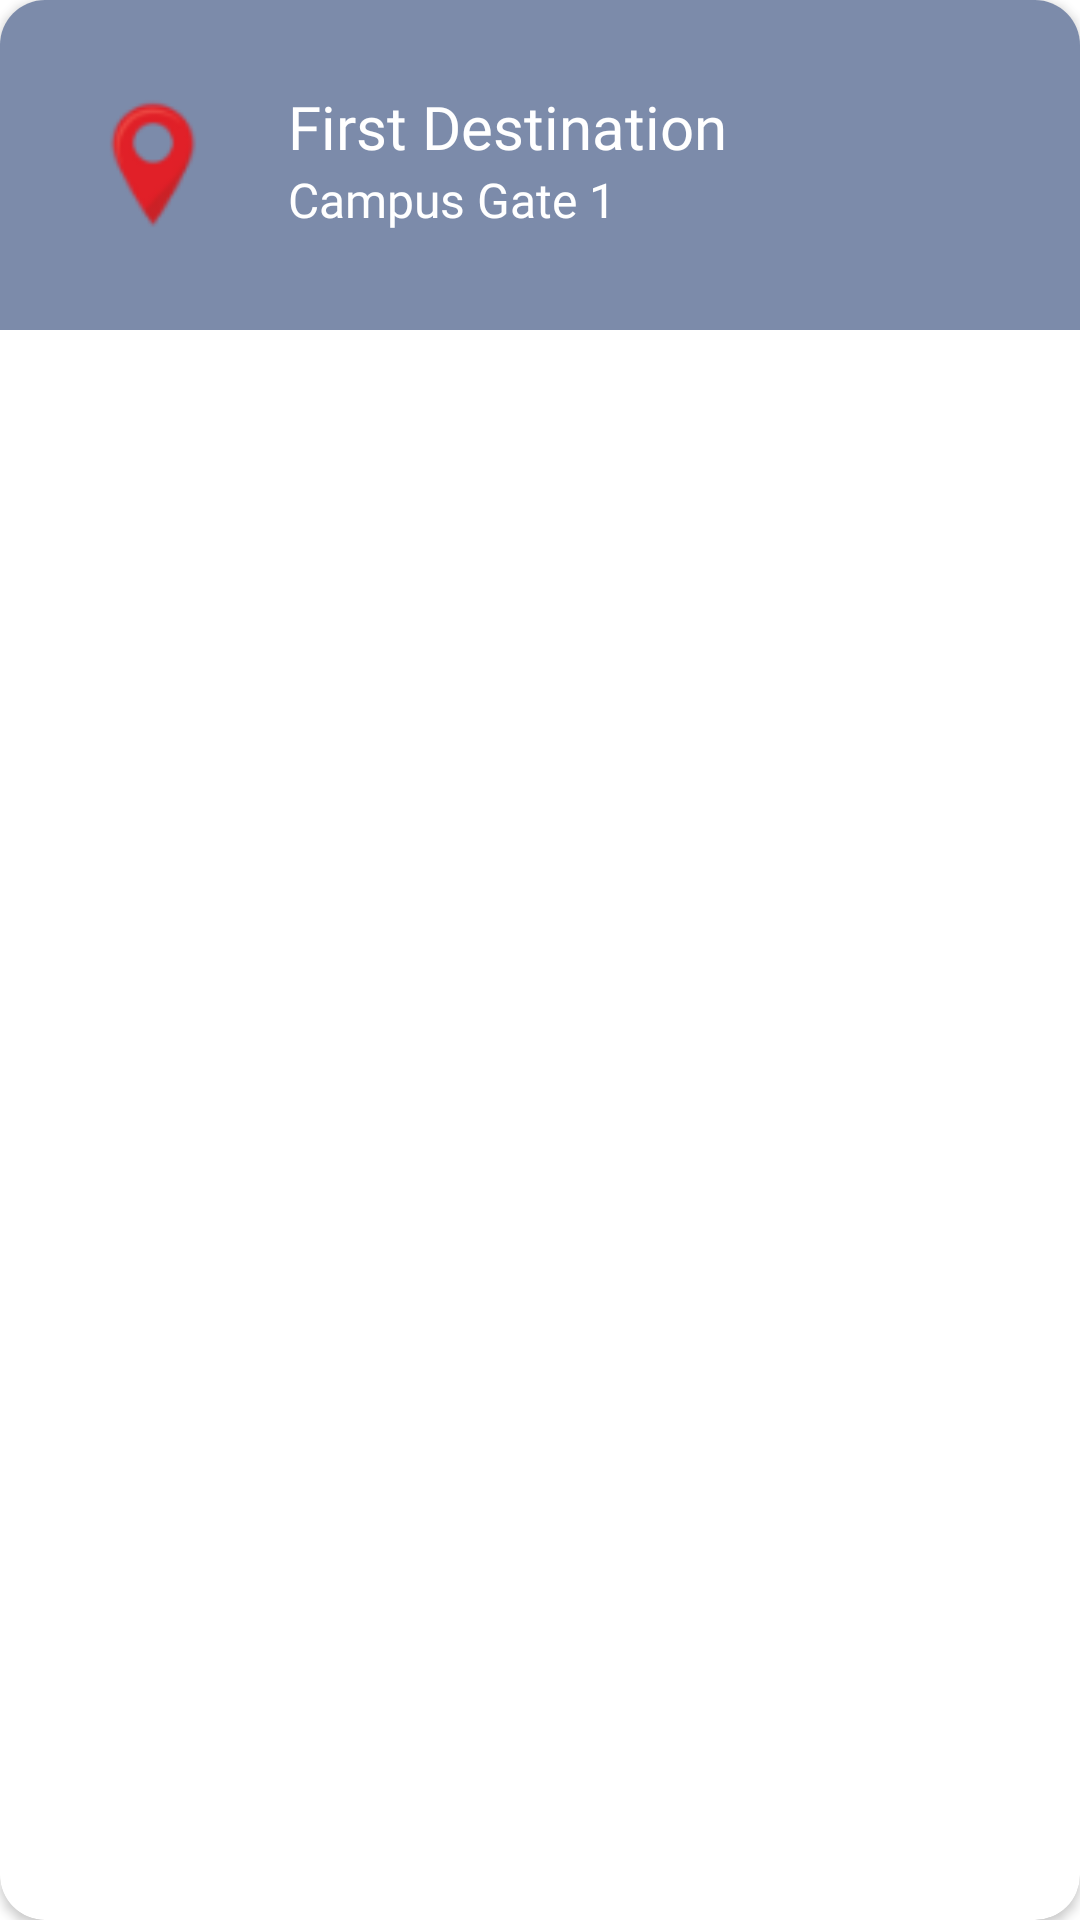

Locate icon controls on the screen. Image size 1080*1920, boxes as (x1, y1, x2, y2).
location marker: (111, 103, 195, 225)
